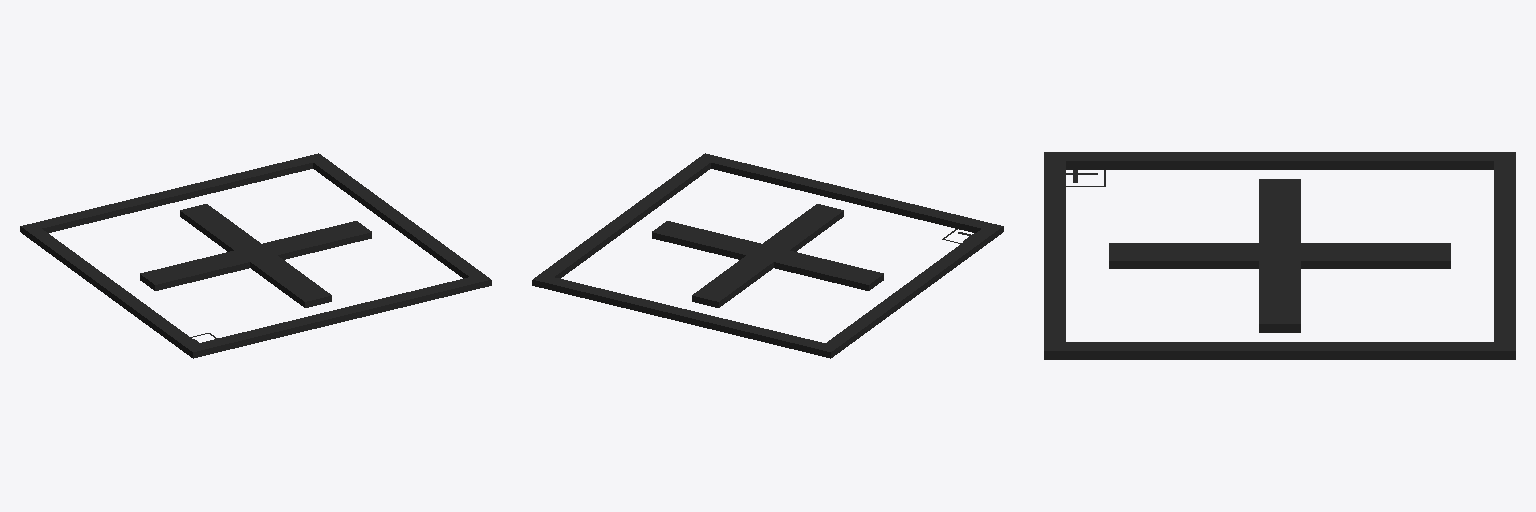
robot.urdf — Room49:
<robot name="Room49">
    <link name="_name">
        <visual> 
            <origin rpy="0.0 0.0 0.0" xyz="-0.5013036037164882 -0.49869501826689827 -0.009999999999999998" />
                <geometry>
                    <mesh filename="Room49/Room49.obj" scale="1 1 0.1" />
                </geometry>

            <material name="black">
                <color rgba="0.2 0.2 0.2 0.95" />
            </material>
        </visual>

       <collision concave="yes" name="collision_0">
            <origin rpy="0.0 0.0 0.0" xyz="-0.5013036037164882 -0.49869501826689827 -0.009999999999999998" />
            <geometry>
                <mesh filename="Room49/Room49_vhacd.obj" scale="1 1 0.1" />
            </geometry>
        </collision>

        <inertial> 
            <mass value="0" />
            <inertia ixx="0" ixy="0" ixz="0" iyy="0" iyz="0" izz="0" />
        </inertial> 
    </link>
</robot>

--- Render facts (derived) ---
The picture shows the robot from 3 angles, left to right: view 1: azimuth 30°, elevation 25°; view 2: azimuth 150°, elevation 25°; view 3: azimuth 270°, elevation 25°; orthographic projection.
Robot: Room49 — 1 links, 0 joints (none); root link _name; default pose: all joints at 0.
Visible links, largest first — view 1: _name; view 2: _name; view 3: _name.
Link boxes in pixels (x1,y1,x2,y2): _name: (20,153,491,358); _name: (532,153,1003,358); _name: (1044,152,1515,359).
Bounding box of the posed robot: 1 × 1 × 0.02 m (x, y, z).
1 mesh visuals loaded from 1 distinct referenced files (1 OBJ).